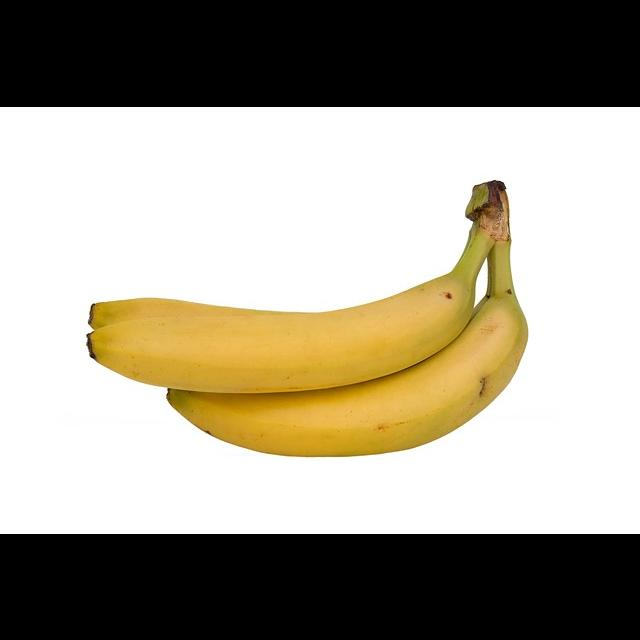banana: (167, 293, 575, 462), (90, 275, 541, 391), (70, 288, 373, 358)
